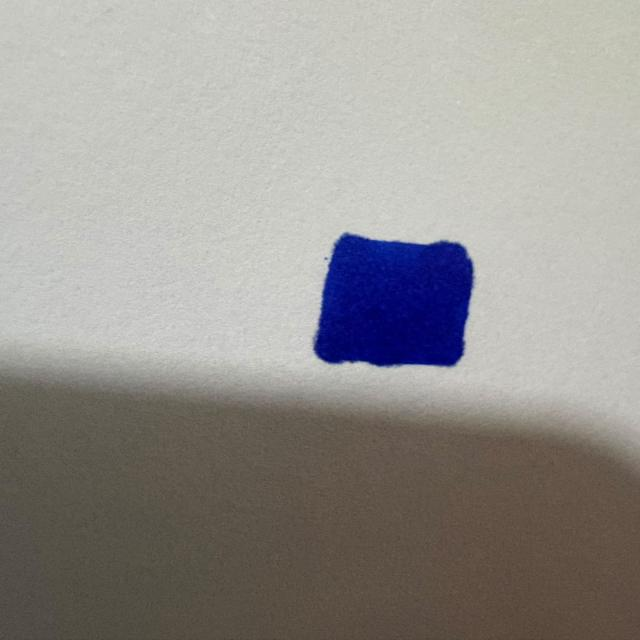Square: (314, 234, 478, 368)
